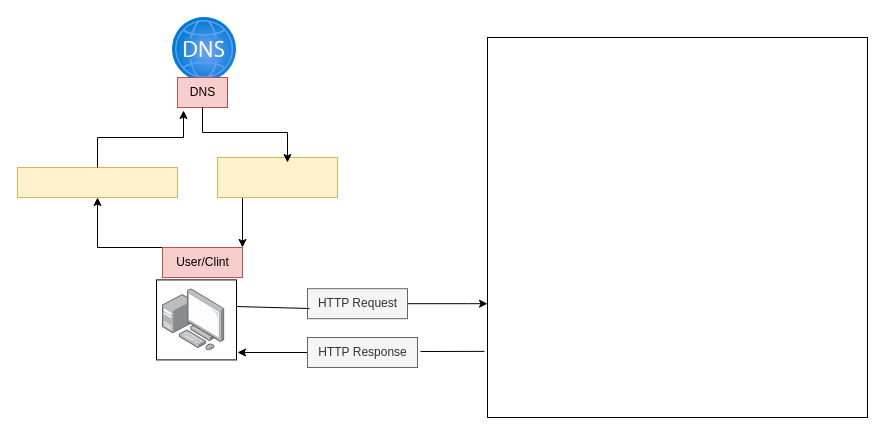
Image size: 885x443. Some labels were removed from this diagram. Each missing label, with the centre of its shape:
"where is www.foobar.com" goes at [97,182].
"www.foobar.com at 8.8.8.8" goes at [277,177].
